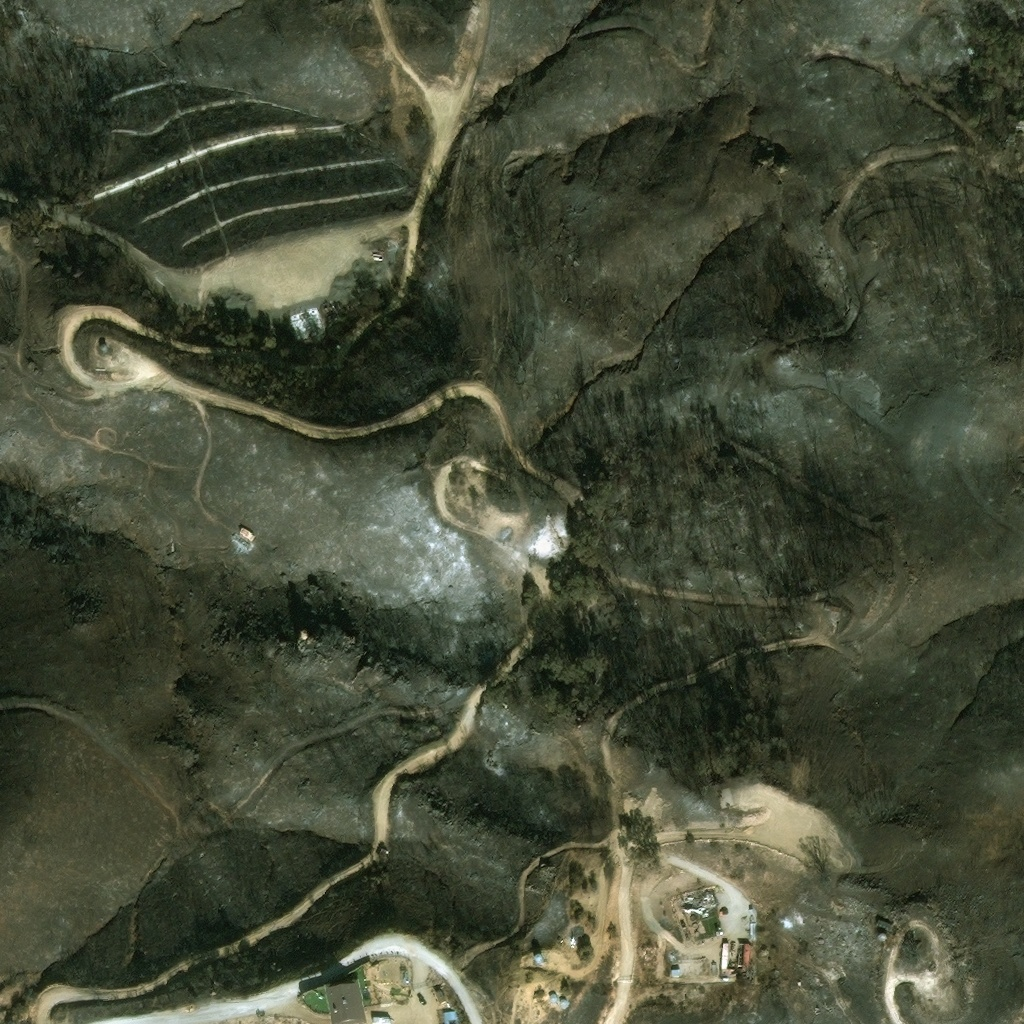0 no-damage: (323, 977, 364, 1023), (433, 986, 446, 1003), (443, 1009, 456, 1023), (671, 966, 680, 975), (559, 997, 568, 1005), (533, 953, 541, 961), (98, 343, 106, 351), (549, 992, 556, 1000), (399, 969, 407, 975)
1 minor-damage: (720, 941, 728, 969), (735, 941, 743, 967), (728, 941, 735, 957), (875, 932, 887, 940), (721, 976, 728, 981), (748, 967, 752, 975)
2 major-damage: (230, 529, 251, 548), (237, 524, 256, 542)
3 destroyed: (289, 308, 322, 335), (679, 891, 717, 912), (899, 927, 914, 944), (874, 917, 891, 930), (323, 298, 335, 312), (831, 856, 843, 868), (542, 963, 548, 968)
